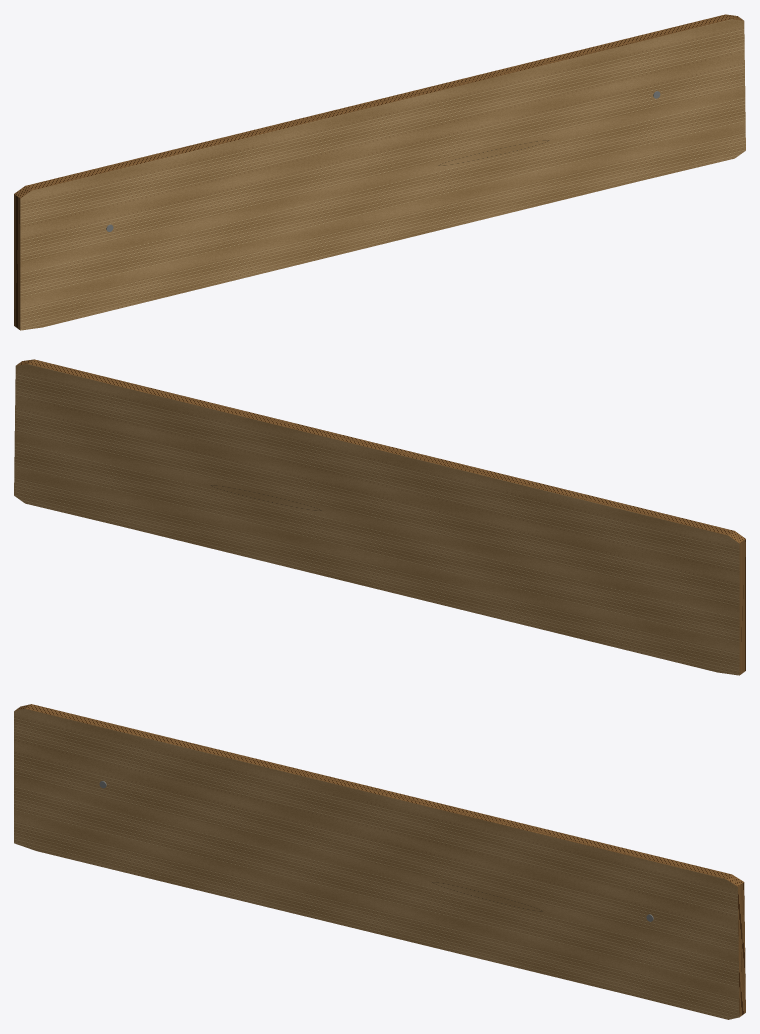
File: Plywood_Board.glb
3 renders of one model, top to bottom at view 1: azimuth 30°, elevation 25°; view 2: azimuth 150°, elevation 25°; view 3: azimuth 330°, elevation 25°, orthographic.
Parts seen in each view (by area): view 1: Plywood; view 2: Plywood; view 3: Plywood.
Boxes of the visible parts, left/top/right/bottom form: Plywood: left=14, top=14, right=745, bottom=330; Plywood: left=14, top=359, right=745, bottom=675; Plywood: left=14, top=704, right=745, bottom=1019.
Size of the model in its own units: 1.3 by 0.24 by 0.0214.
3 materials, 3 textured.
